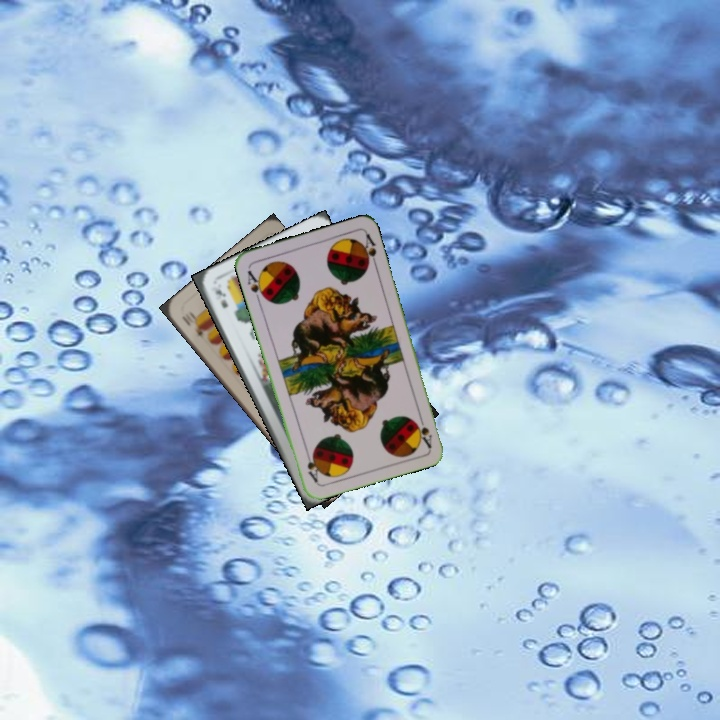E10: (178, 309, 206, 339)
EK: (211, 285, 231, 311)
SA: (243, 266, 269, 305), (412, 410, 434, 450)
